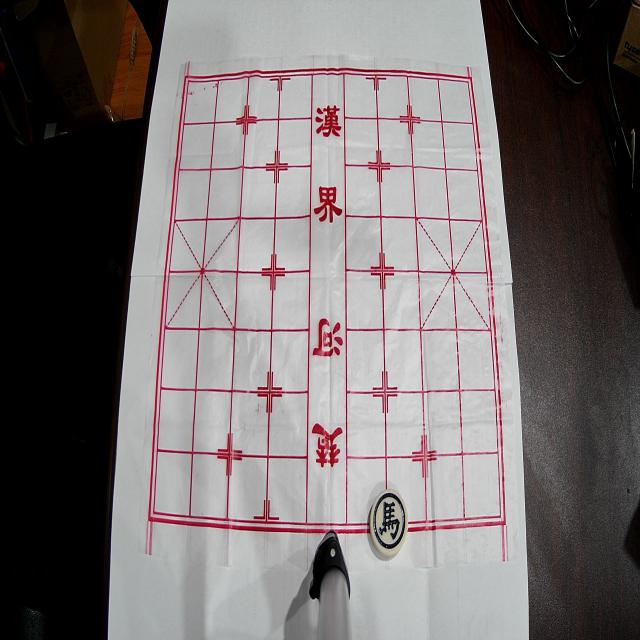black-horse: (370, 490, 408, 558)
